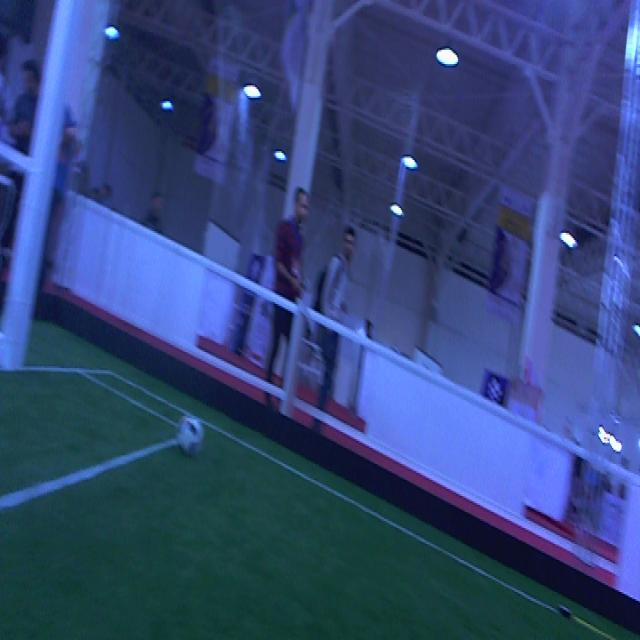ball: (176, 414, 204, 457)
goalpost: (2, 6, 84, 372)
